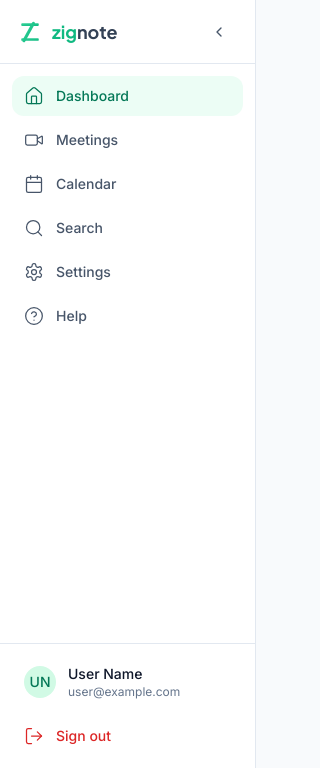
Test: Sidebar › should hide labels when collapsed
Expected: the text "Dashboard" is shown, 56,86 -> 129,106
Click the button named "collapse sidebar" at (219, 32), box 199,12 -> 239,52
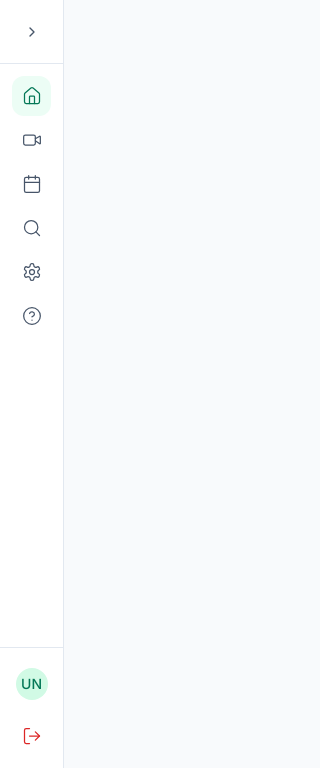
Now the text "Dashboard" is gone
